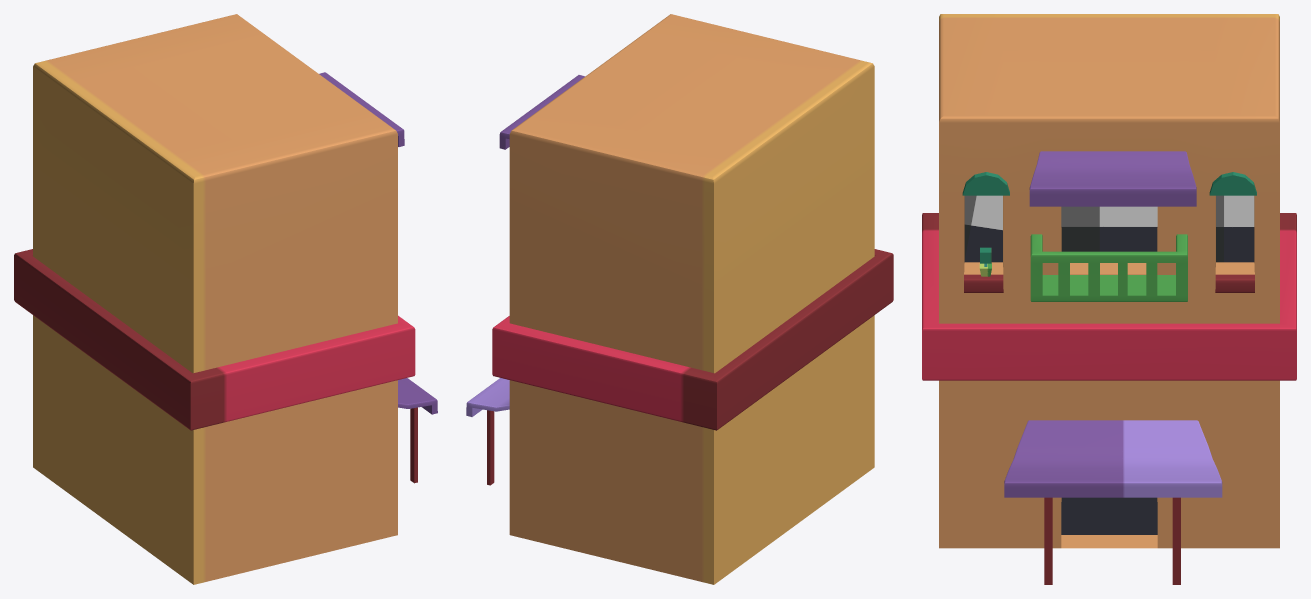
Rendered from BuildingShort_01C.fbx.
The picture shows the model from 3 angles, left to right: view 1: azimuth 30°, elevation 25°; view 2: azimuth 150°, elevation 25°; view 3: azimuth 270°, elevation 25°; orthographic projection. The views are drawn at different scales.
Visible parts, largest first — view 1: polySurface1066; view 2: polySurface1066; view 3: polySurface1066.
Boxes of the visible parts, box(x1,y1,x2,y2) form: polySurface1066: box(14, 14, 437, 584); polySurface1066: box(466, 14, 893, 584); polySurface1066: box(922, 14, 1296, 584).
Size of the model in its own units: 4.22 by 5.73 by 4.52.
1 material, 1 textured.
